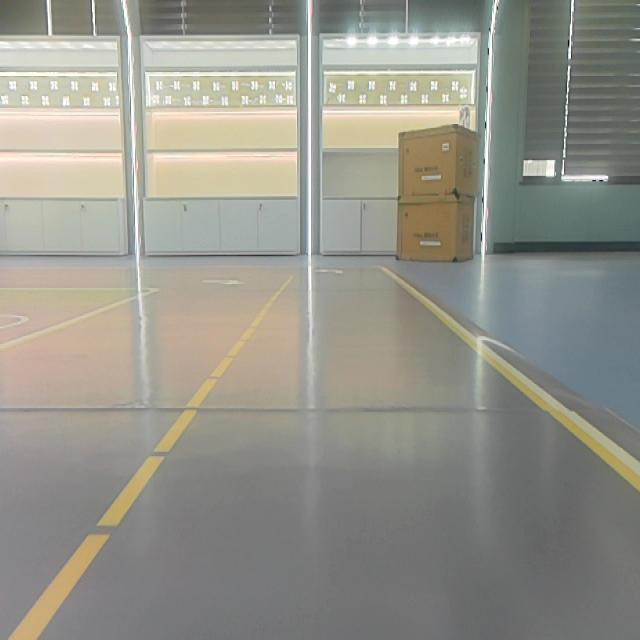left_lane: (9, 283, 281, 637)
right_lane: (384, 272, 640, 481), (2, 292, 152, 354)
